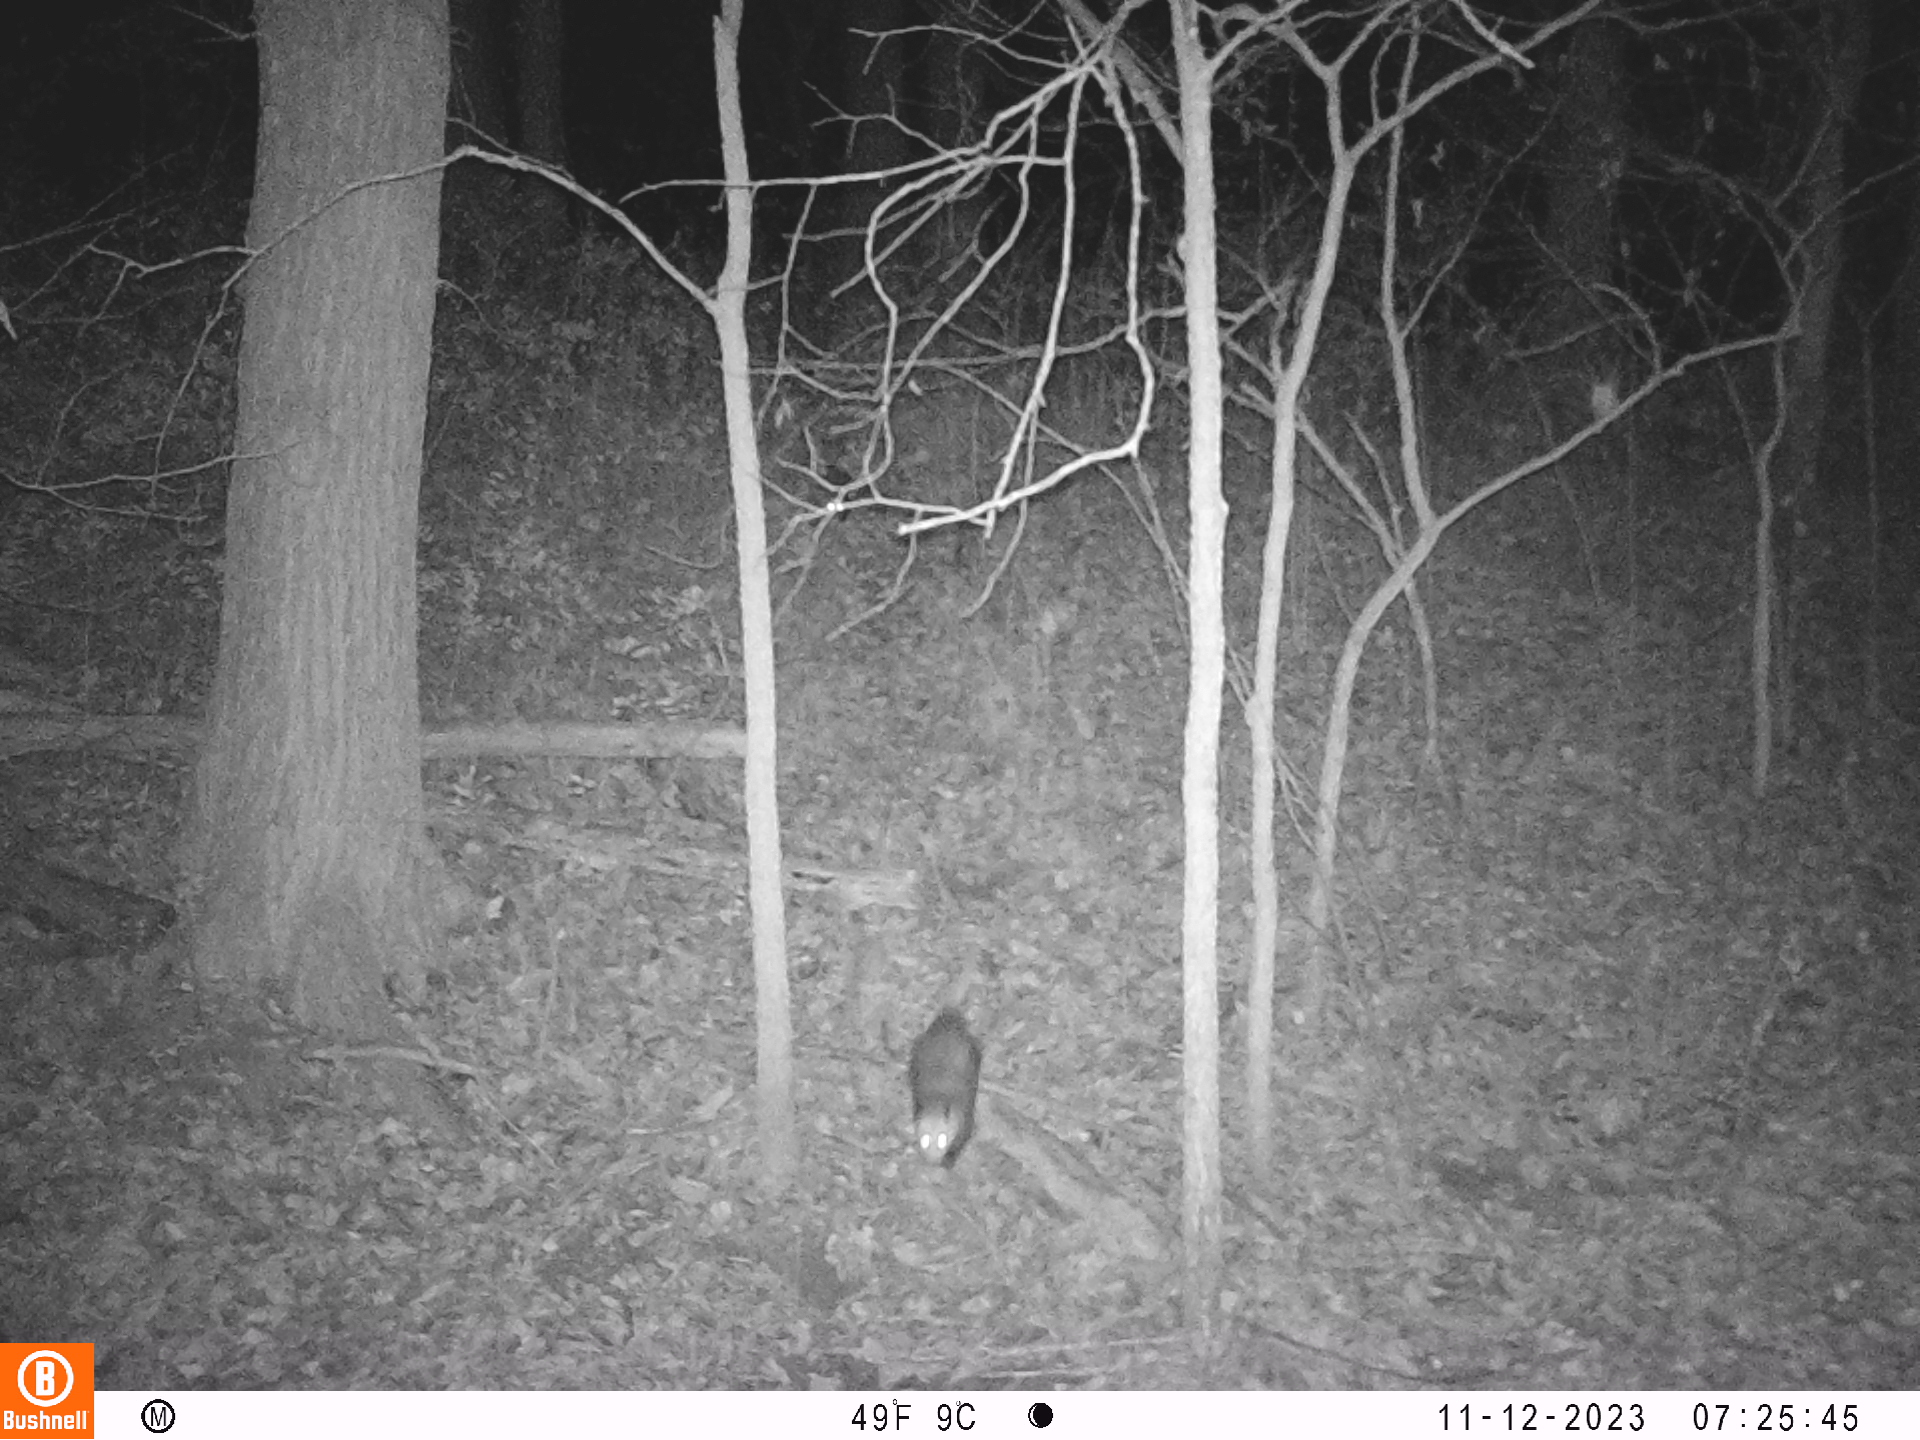Possum: (906, 962, 983, 1171)
